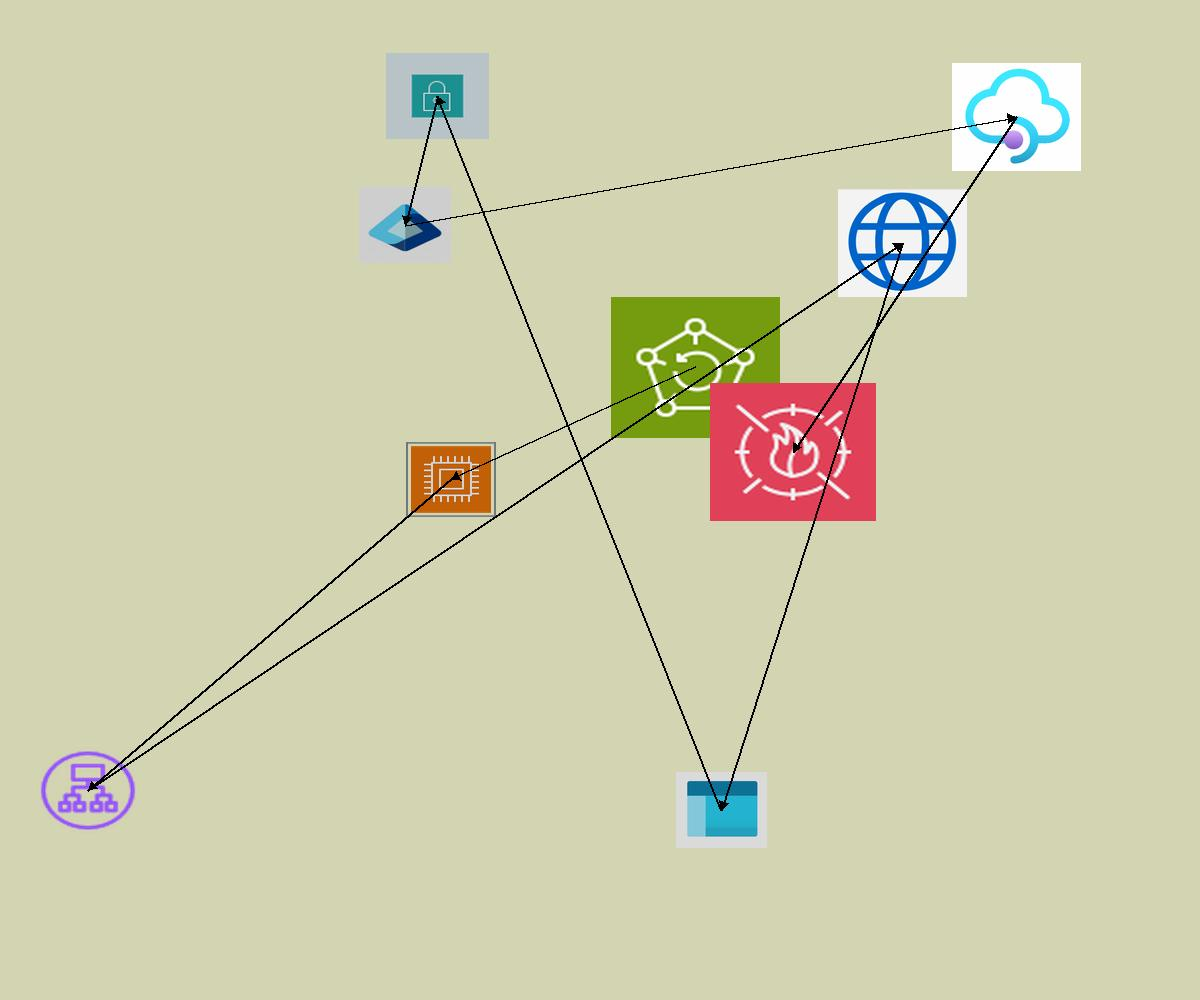AWS-Backup: (611, 297, 780, 438)
AWS-Category_Compute: (406, 442, 496, 517)
AWS-Private-subnet: (386, 53, 489, 139)
AWS-Res_Elastic-Load-Balancing_Application-Load-Balancer: (37, 748, 139, 833)
AWS-WAF: (710, 383, 876, 521)
Azure_api_gateway: (952, 63, 1081, 171)
Azure_http: (838, 189, 967, 297)
Azure_management-portal: (676, 772, 767, 848)
Azure_microsoft_entra: (359, 187, 451, 263)
